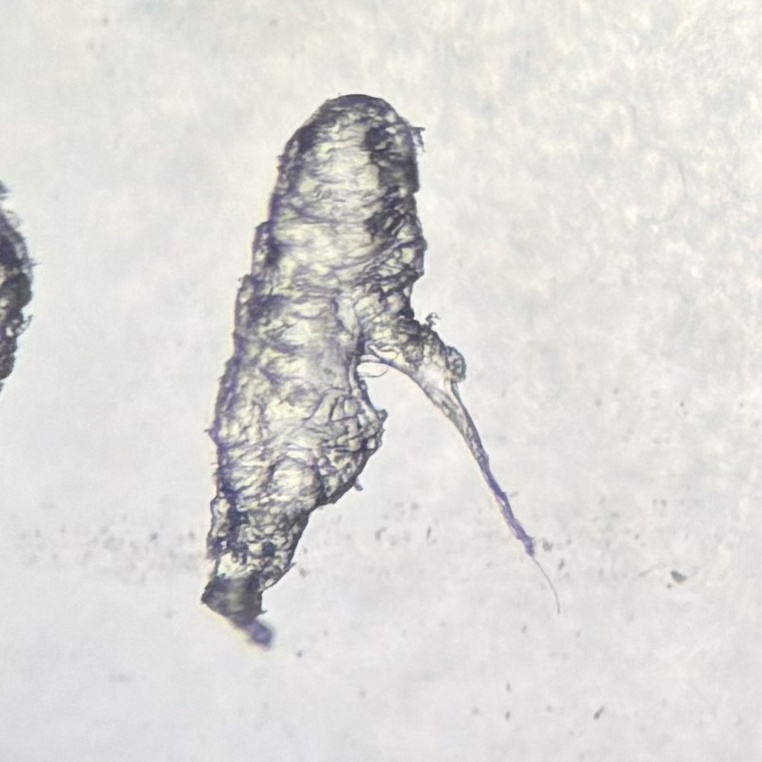microplastic: (199, 93, 562, 648), (1, 180, 34, 393)
